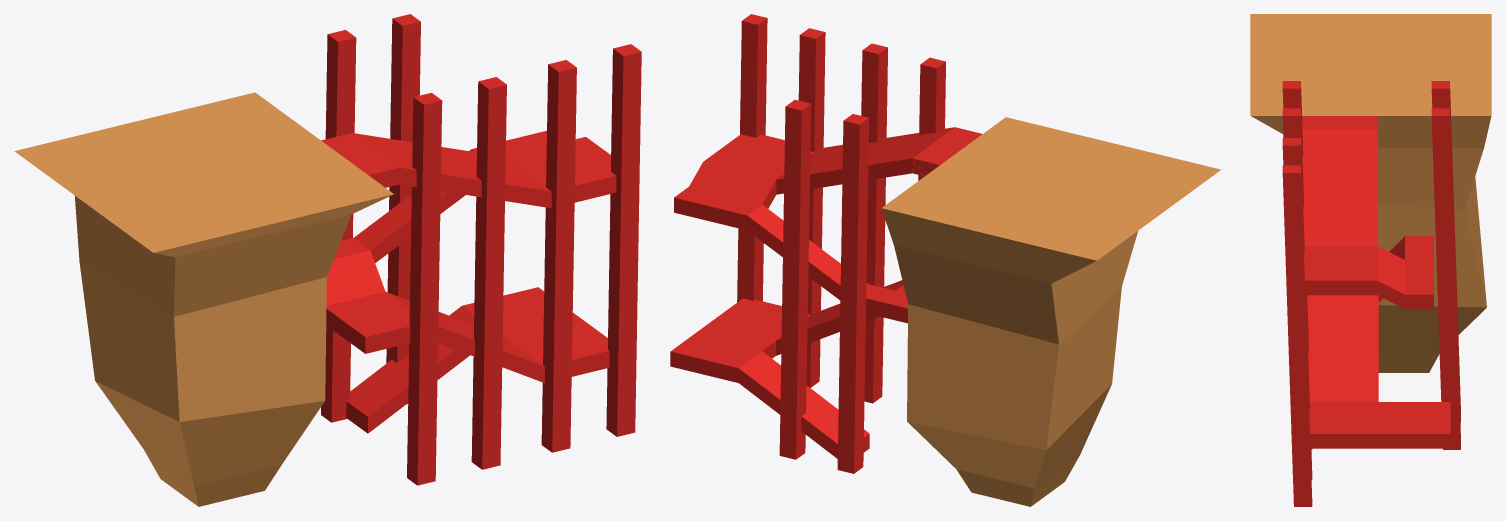
The model's file is EscaladorExtremo.fbx.
The picture shows the model from 3 angles, left to right: view 1: azimuth 30°, elevation 25°; view 2: azimuth 150°, elevation 25°; view 3: azimuth 270°, elevation 25°; orthographic projection. The views are drawn at different scales.
Parts seen in each view (by area): view 1: Cube.006; view 2: Cube.006; view 3: Cube.006.
Boxes of the visible parts, x1,y1,x2,y2 form: Cube.006: (14,14,641,506); Cube.006: (670,14,1220,506); Cube.006: (1250,14,1491,506).
Bounding box in the file's own units: 3252 × 2405 × 1546.
